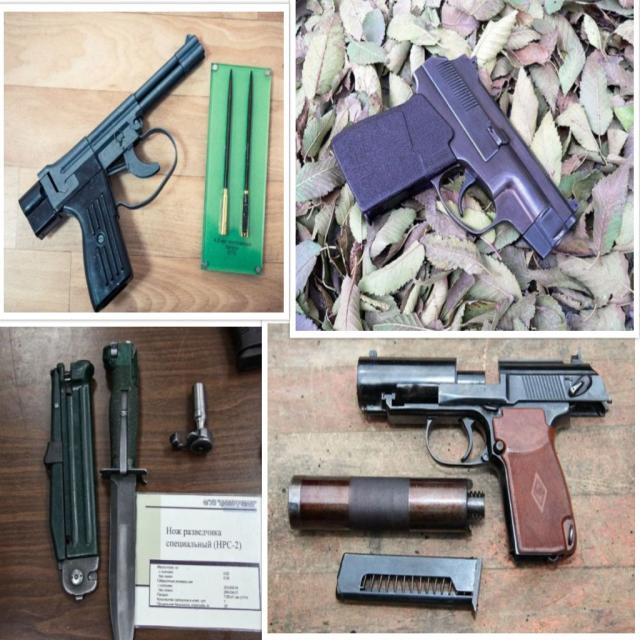knife: (97, 341, 147, 640)
pistol: (356, 349, 614, 568), (17, 33, 206, 314), (332, 50, 578, 259)
